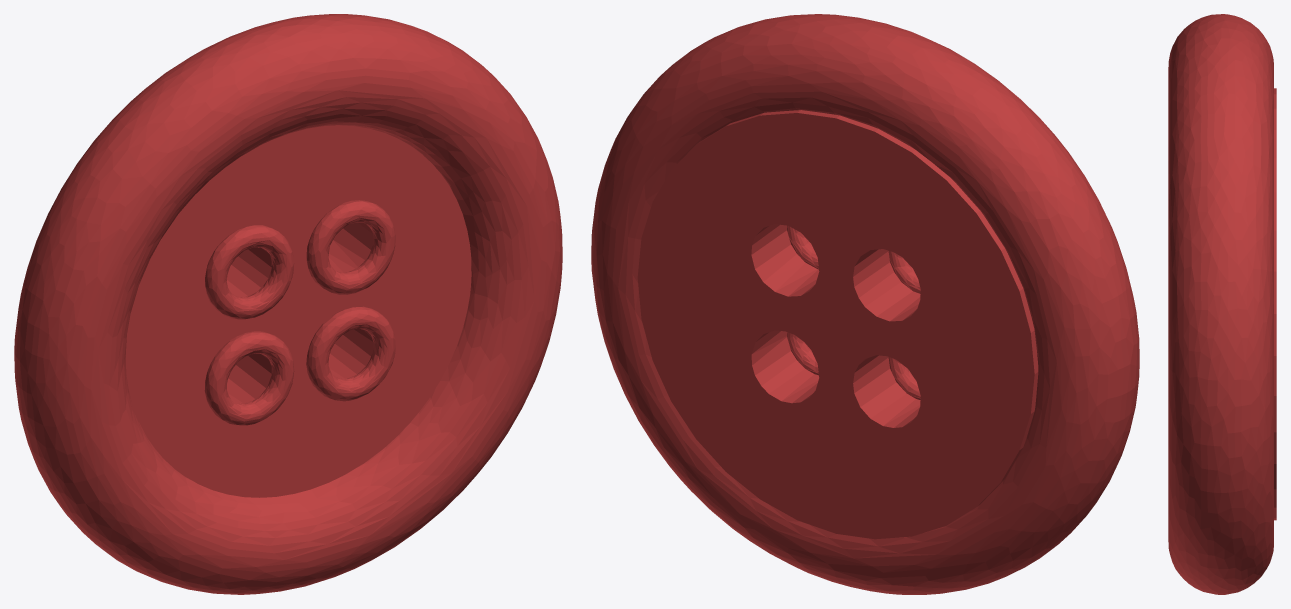
File: Button.glb
3 views of the same model, side by side, from view 1: azimuth 30°, elevation 25°; view 2: azimuth 150°, elevation 25°; view 3: azimuth 270°, elevation 25° (orthographic). The views are drawn at different scales.
Parts seen in each view (by area): view 1: Circle.126; view 2: Circle.126; view 3: Circle.126.
Part boxes in pixels (x1,y1,x2,y2): Circle.126: (14, 14, 562, 594); Circle.126: (591, 14, 1139, 594); Circle.126: (1168, 14, 1276, 594).
Size of the model in its own units: 15.74 by 15.74 by 2.93.
